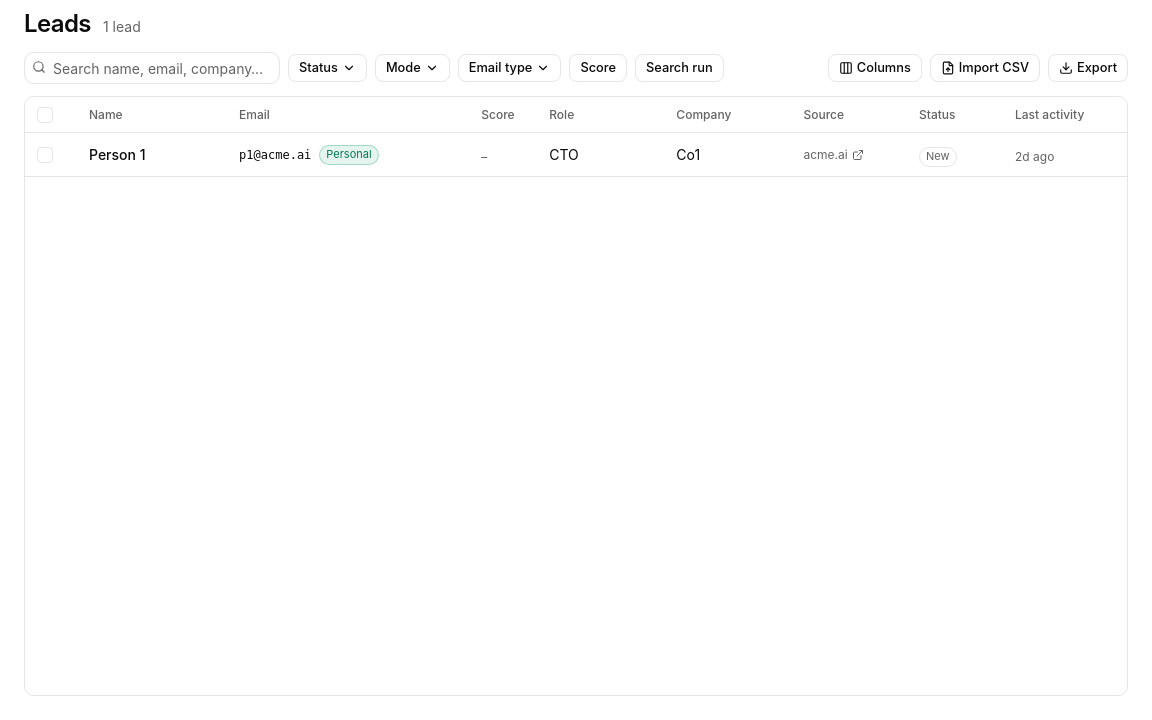
Test: LeadsPage › opens the details drawer for a row
The width and height of the screenshot is (1152, 720).
Click the text "p1@acme.ai" at (275, 154), box [239,146,311,162]
(page scrolled)
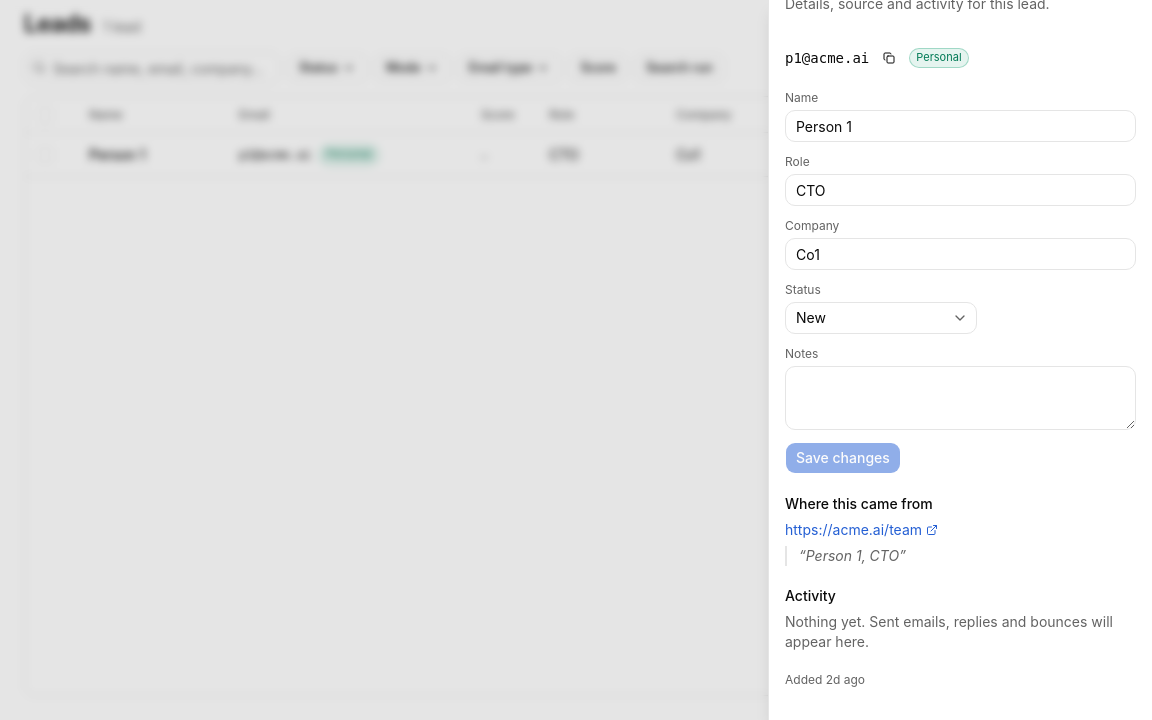
Expected: the element with test id "lead-drawer" is shown, [769,46,1151,719]
